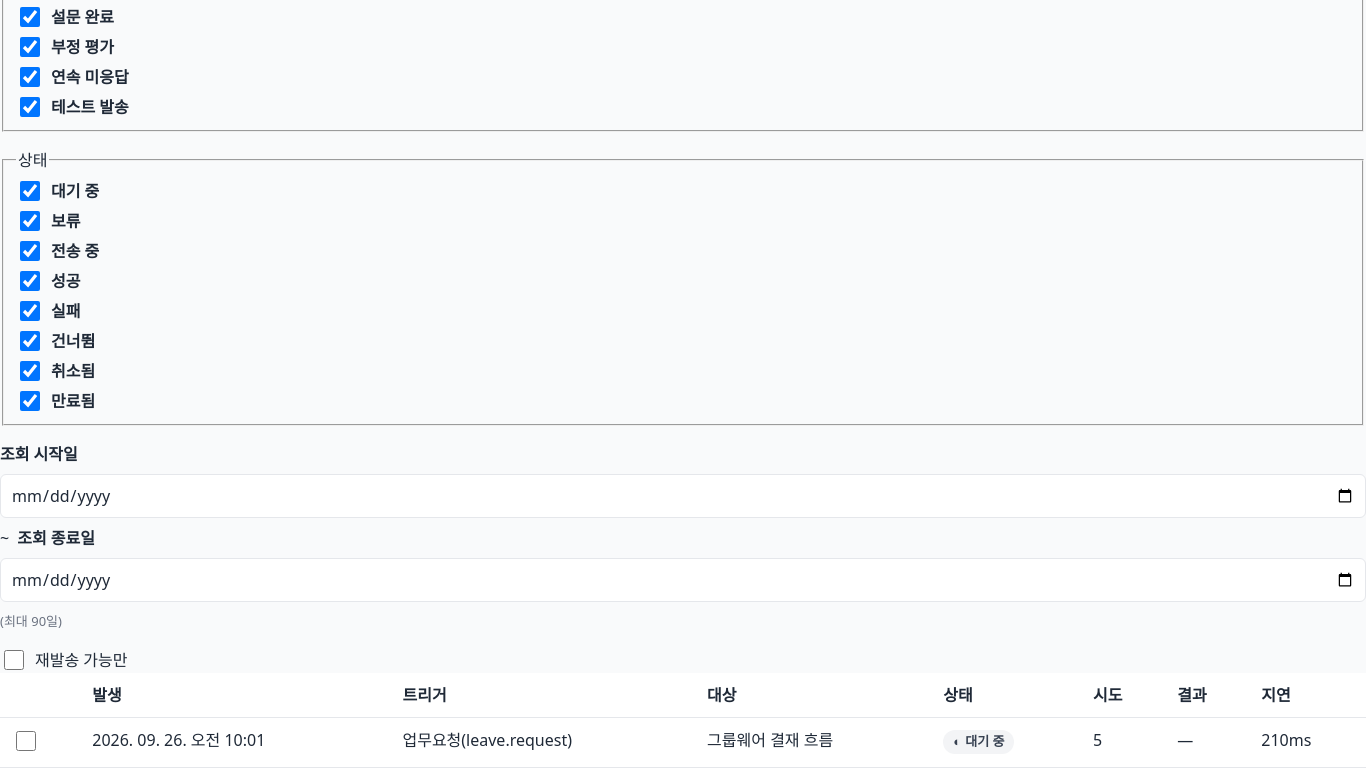
it: ChatbotWorkflowRunsPage — 재발송/취소 › 대기 중인 건을 선택해 취소하면 확인 모달 뒤 성공 토스트가 뜬다
(page scrolled)
Expected: the text "그룹웨어 결재 흐름" is shown, [695,718,931,767]
Click the checkbox named "7f1c2e3a-aaaa-4aaa-8aaa-aaaaaaaaaaaa 선택" at coordinates (26, 741), box [16,731,36,751]
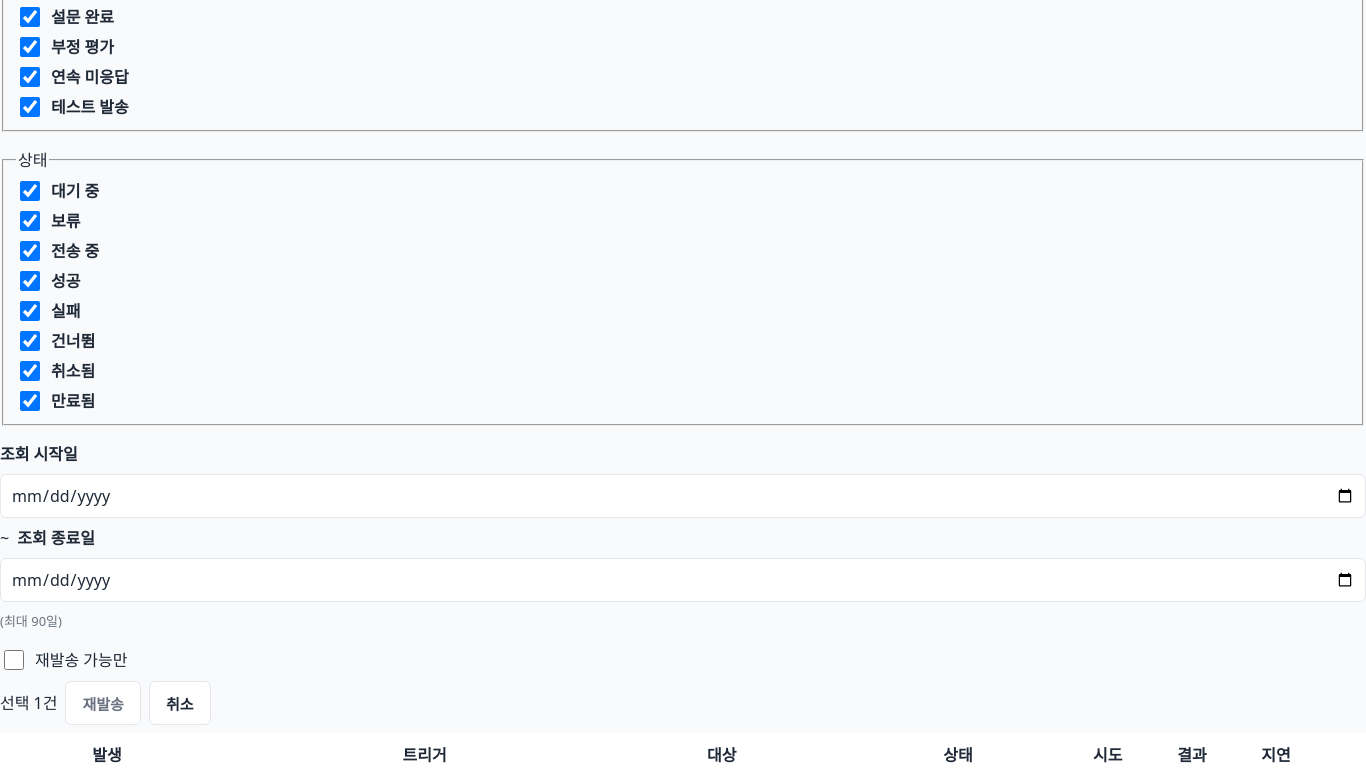
Click the button "취소" at coordinates (180, 703), box [149,681,210,725]
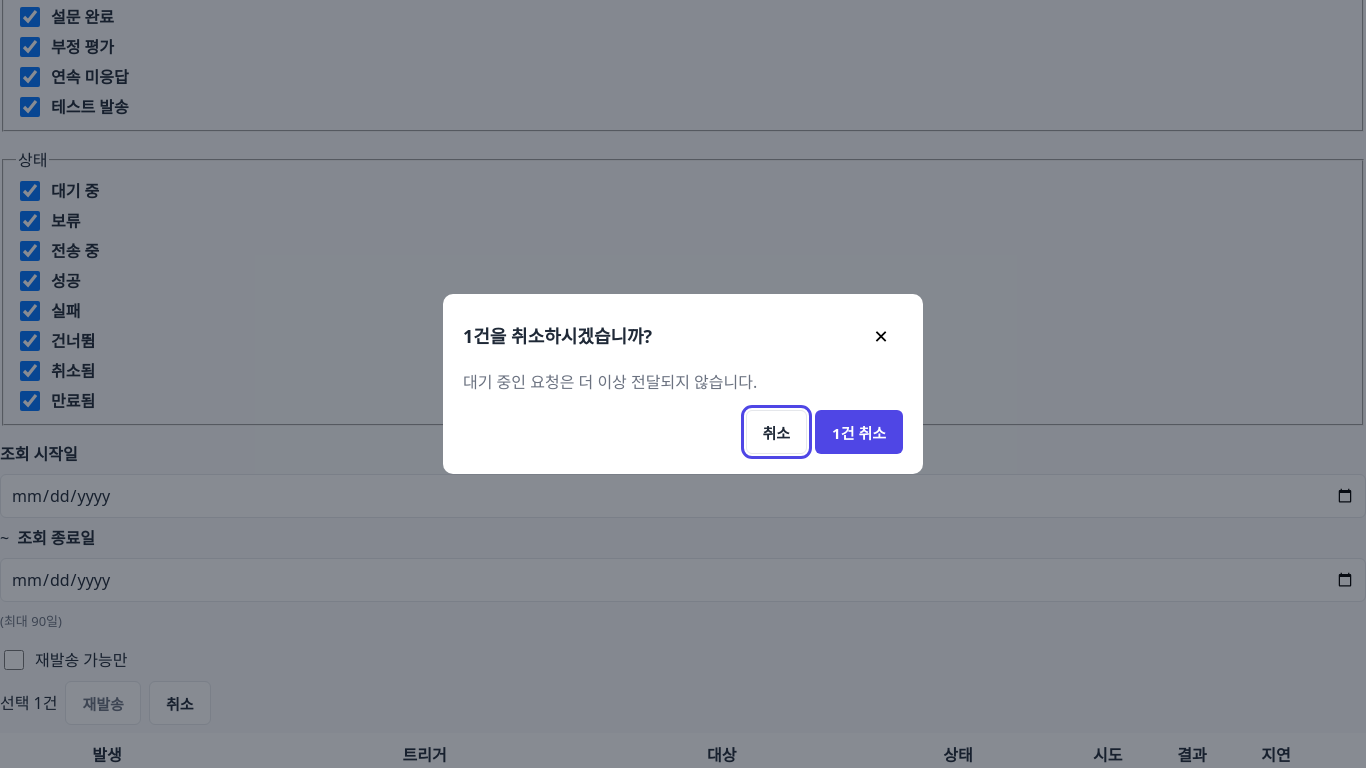
Click the button "1건 취소" at coordinates (859, 432), box [815,410,903,454]
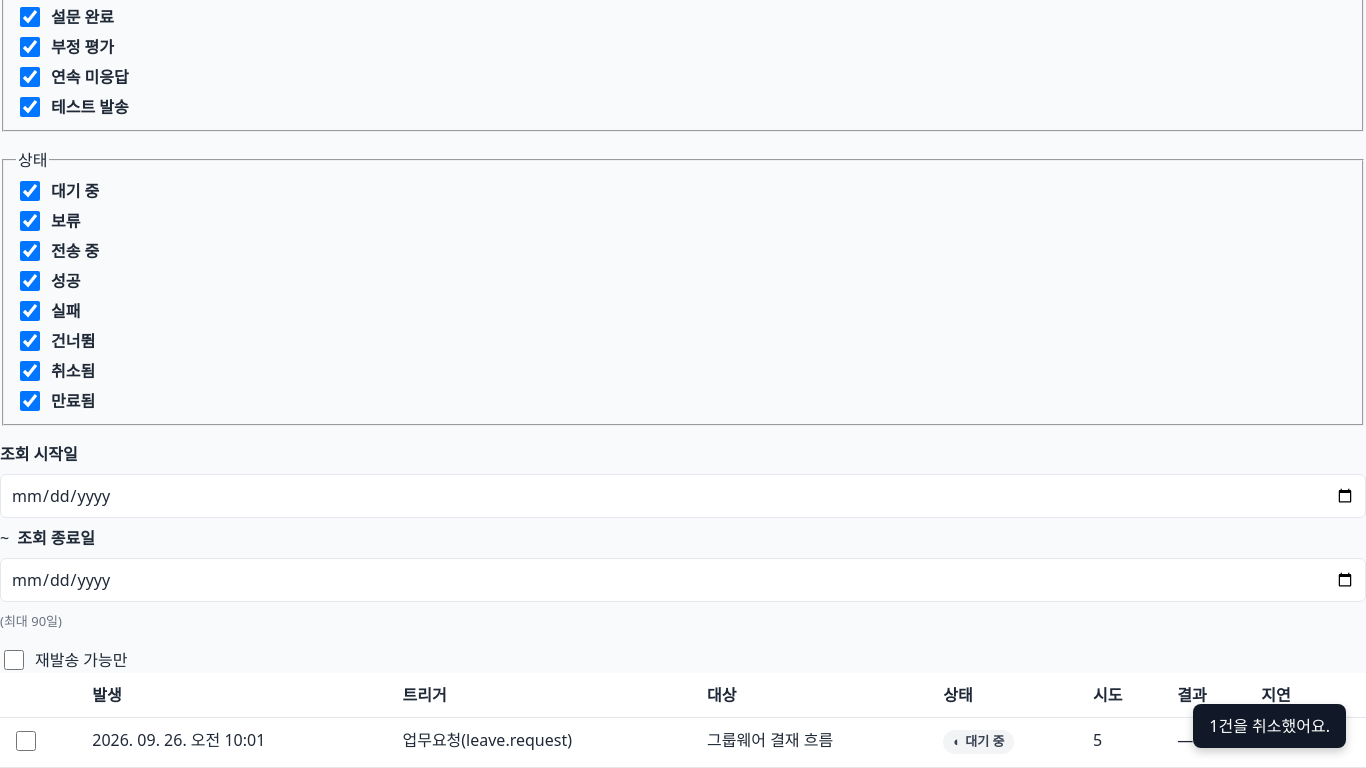
Expected: the text "1건을 취소했어요." is shown, [1193,704,1346,748]
